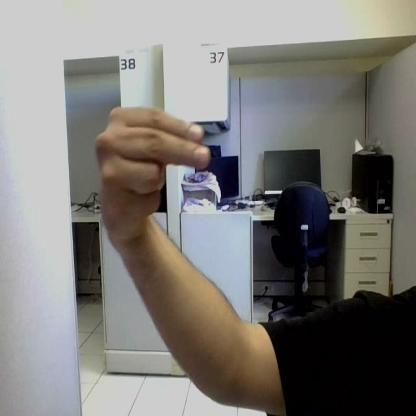H: (96, 106, 210, 236)
